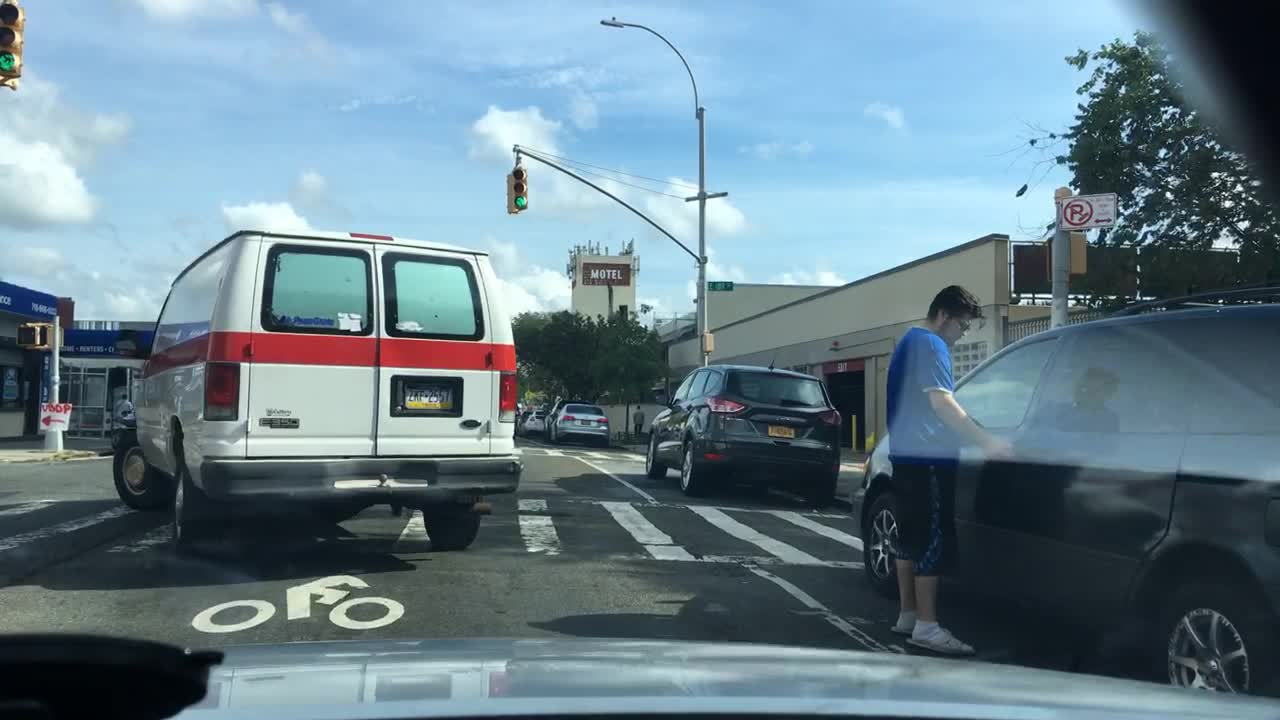car: (855, 283, 1278, 703), (110, 223, 519, 558), (644, 364, 843, 513), (551, 403, 611, 448), (544, 399, 592, 438), (109, 410, 142, 448), (524, 408, 549, 435), (516, 408, 535, 433), (512, 402, 521, 438)
person: (884, 286, 1009, 658), (631, 404, 646, 436), (115, 396, 134, 416)
traffic light: (0, 0, 24, 91), (1048, 232, 1087, 273), (15, 321, 48, 349), (509, 167, 528, 212), (700, 330, 714, 355)
traffic sign: (1060, 191, 1115, 230), (39, 401, 70, 432), (707, 280, 733, 292)
